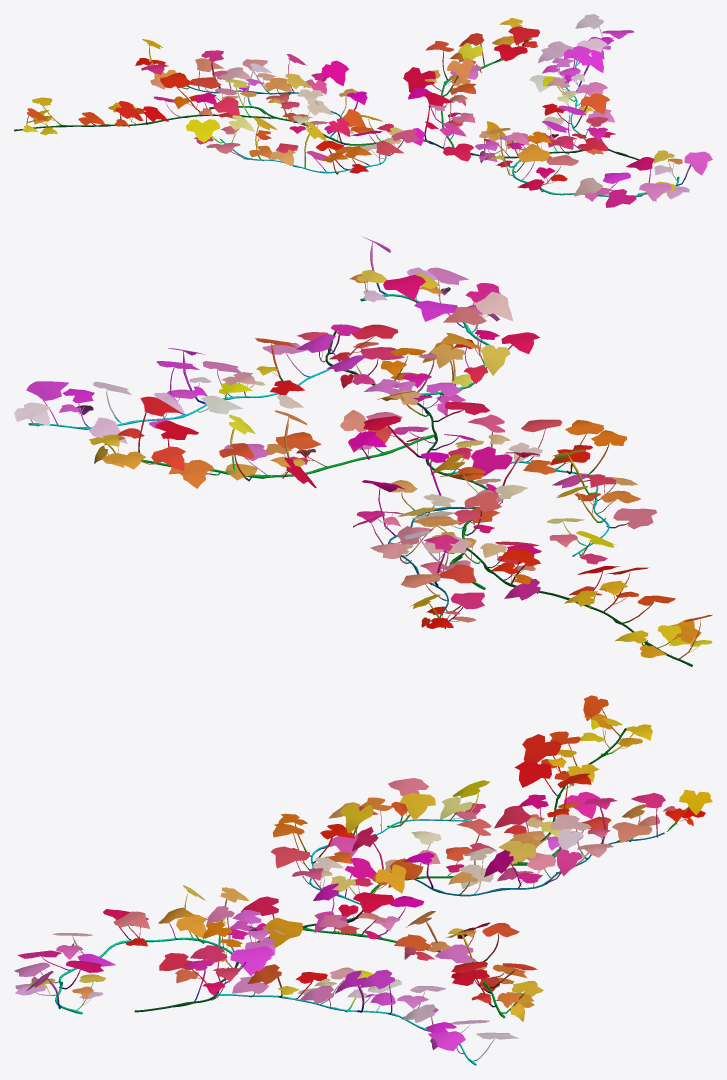
File: English_Ivy_xfcnebhqx_Mid_xfcnebhqx_VarA_LOD0.fbx
3 renders of one model, top to bottom at view 1: azimuth 30°, elevation 25°; view 2: azimuth 150°, elevation 25°; view 3: azimuth 270°, elevation 25°, orthographic. The views are drawn at different scales.
Parts seen in each view (by area): view 1: _epun_VarA_LOD1; view 2: _epun_VarA_LOD1; view 3: _epun_VarA_LOD1.
Boxes of the visible parts, x1,y1,x2,y2 form: _epun_VarA_LOD1: [14, 14, 712, 207]; _epun_VarA_LOD1: [14, 236, 712, 666]; _epun_VarA_LOD1: [14, 695, 712, 1065].
Size of the model in its own units: 175 by 13.38 by 150.
